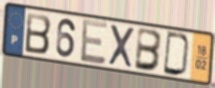6: (55, 17, 77, 60)
B: (133, 26, 164, 74), (24, 11, 53, 56)
D: (162, 30, 192, 78)
E: (79, 17, 109, 66)
X: (107, 23, 136, 71)
